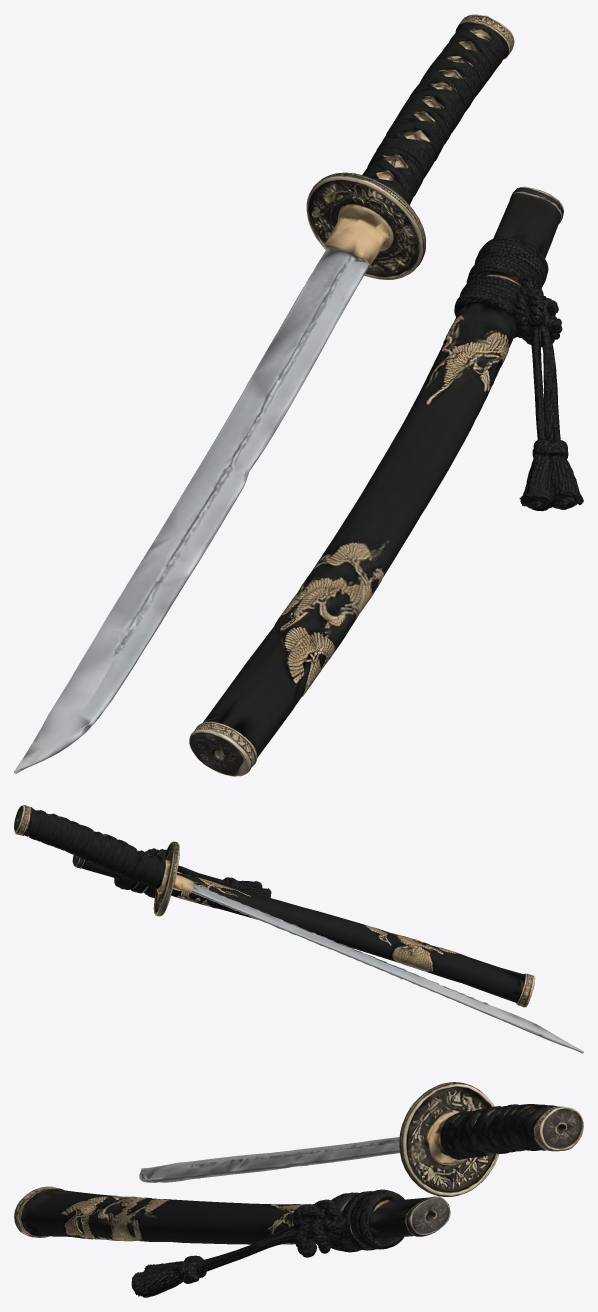
File: katana.glb
The picture shows the model from 3 angles, top to bottom: view 1: azimuth 30°, elevation 25°; view 2: azimuth 150°, elevation 25°; view 3: azimuth 270°, elevation 25°; orthographic projection. The views are drawn at different scales.
Parts seen in each view (by area): view 1: tripo_node_b969fff4-3a74-4173-a0c1-d049e83020a6; view 2: tripo_node_b969fff4-3a74-4173-a0c1-d049e83020a6; view 3: tripo_node_b969fff4-3a74-4173-a0c1-d049e83020a6.
Part boxes in pixels (bbox=[...]): tripo_node_b969fff4-3a74-4173-a0c1-d049e83020a6: bbox=[14, 14, 583, 776]; tripo_node_b969fff4-3a74-4173-a0c1-d049e83020a6: bbox=[14, 805, 583, 1053]; tripo_node_b969fff4-3a74-4173-a0c1-d049e83020a6: bbox=[14, 1082, 583, 1297].
Size of the model in its own units: 0.9802 by 0.5357 by 0.7521.
1 material, 1 textured.
